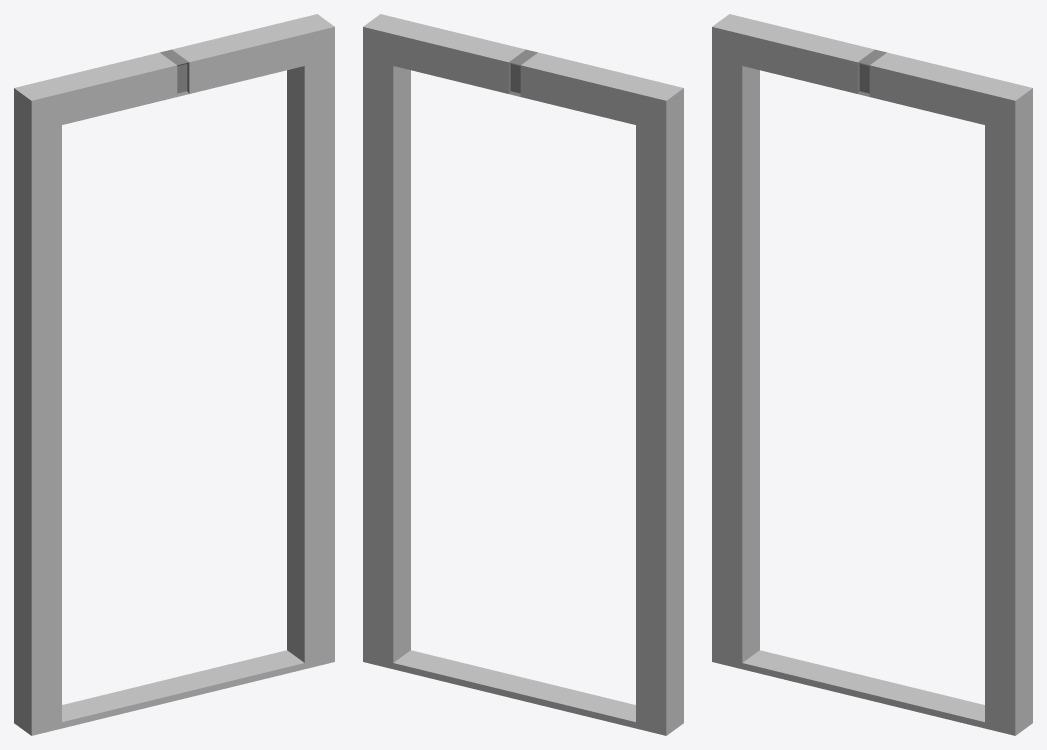
The model's file is ConcreteDoorframe.fbx.
3 renders of one model, left to right at view 1: azimuth 30°, elevation 25°; view 2: azimuth 150°, elevation 25°; view 3: azimuth 330°, elevation 25°, orthographic.
Visible parts, largest first — view 1: ConcreteDoorframe; view 2: ConcreteDoorframe; view 3: ConcreteDoorframe.
Part boxes in pixels (x1=…): ConcreteDoorframe: x1=14, y1=14, x2=334, y2=735; ConcreteDoorframe: x1=363, y1=14, x2=683, y2=735; ConcreteDoorframe: x1=712, y1=14, x2=1032, y2=735.
Bounding box in the file's own units: 100 × 200 × 10.
